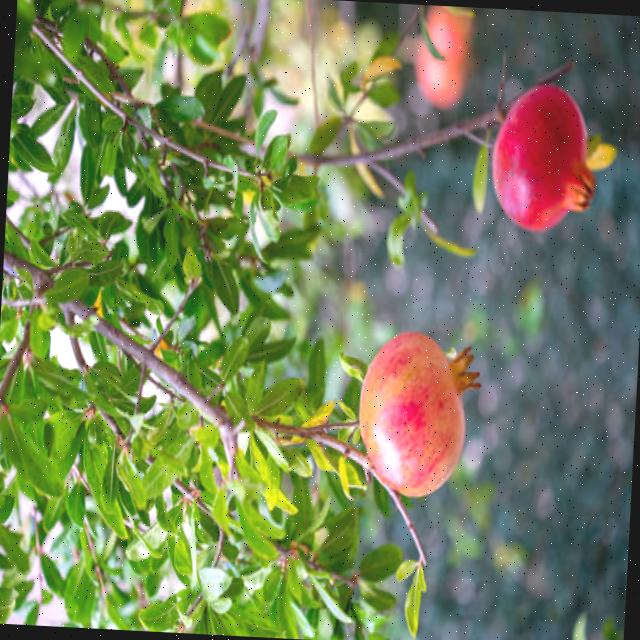Ripe: (349, 326, 484, 496), (484, 71, 602, 234)
